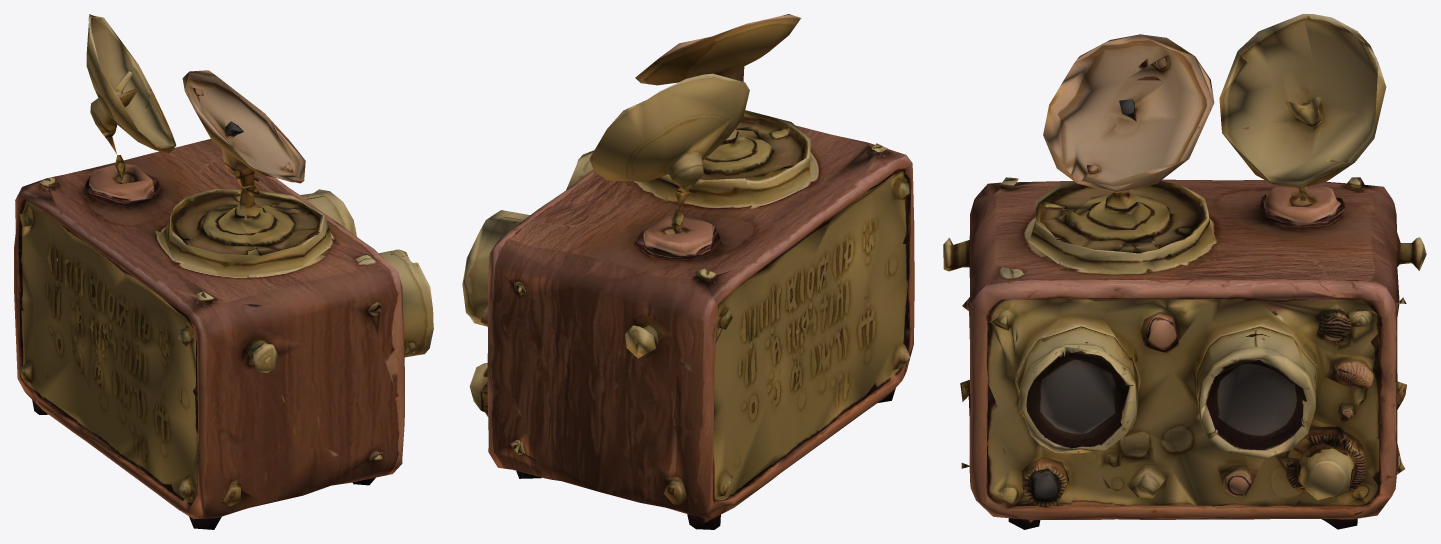
File: signalscope.glb
The picture shows the model from 3 angles, left to right: view 1: azimuth 30°, elevation 25°; view 2: azimuth 150°, elevation 25°; view 3: azimuth 270°, elevation 25°; orthographic projection. The views are drawn at different scales.
Visible parts, largest first — view 1: tripo_node_041aab92-11e8-46b7-817f-a255bb15560c; view 2: tripo_node_041aab92-11e8-46b7-817f-a255bb15560c; view 3: tripo_node_041aab92-11e8-46b7-817f-a255bb15560c.
Part boxes in pixels (x1=…): tripo_node_041aab92-11e8-46b7-817f-a255bb15560c: x1=14, y1=14, x2=433, y2=529; tripo_node_041aab92-11e8-46b7-817f-a255bb15560c: x1=462, y1=14, x2=914, y2=529; tripo_node_041aab92-11e8-46b7-817f-a255bb15560c: x1=943, y1=14, x2=1426, y2=529.
Size of the model in its own units: 0.6952 by 0.9661 by 0.9777.
Materials: 1 (1 with a texture image).
